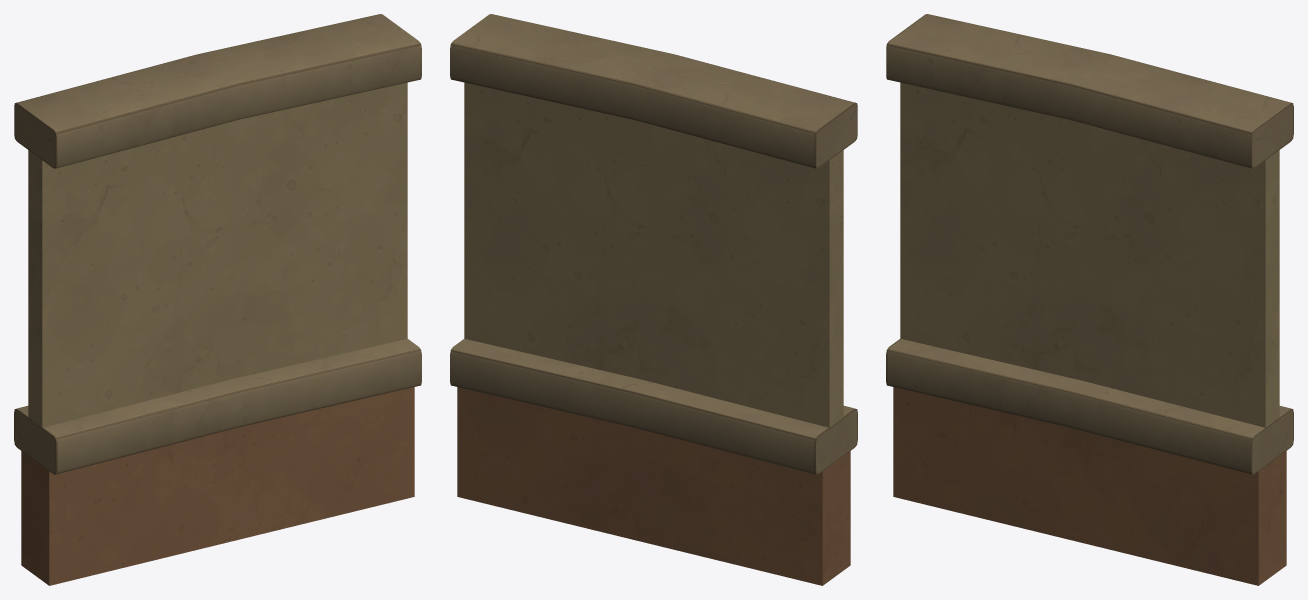
Rendered from SM_building_fence_02.glb.
3 renders of one model, left to right at view 1: azimuth 30°, elevation 25°; view 2: azimuth 150°, elevation 25°; view 3: azimuth 330°, elevation 25°, orthographic.
Visible parts, largest first — view 1: SM_building_fence_02; view 2: SM_building_fence_02; view 3: SM_building_fence_02.
Part boxes in pixels (bbox=[...]): SM_building_fence_02: bbox=[14, 14, 421, 585]; SM_building_fence_02: bbox=[450, 14, 857, 585]; SM_building_fence_02: bbox=[886, 14, 1293, 585].
Size of the model in its own units: 3 by 3.63 by 0.6.
3 materials, 3 textured.
